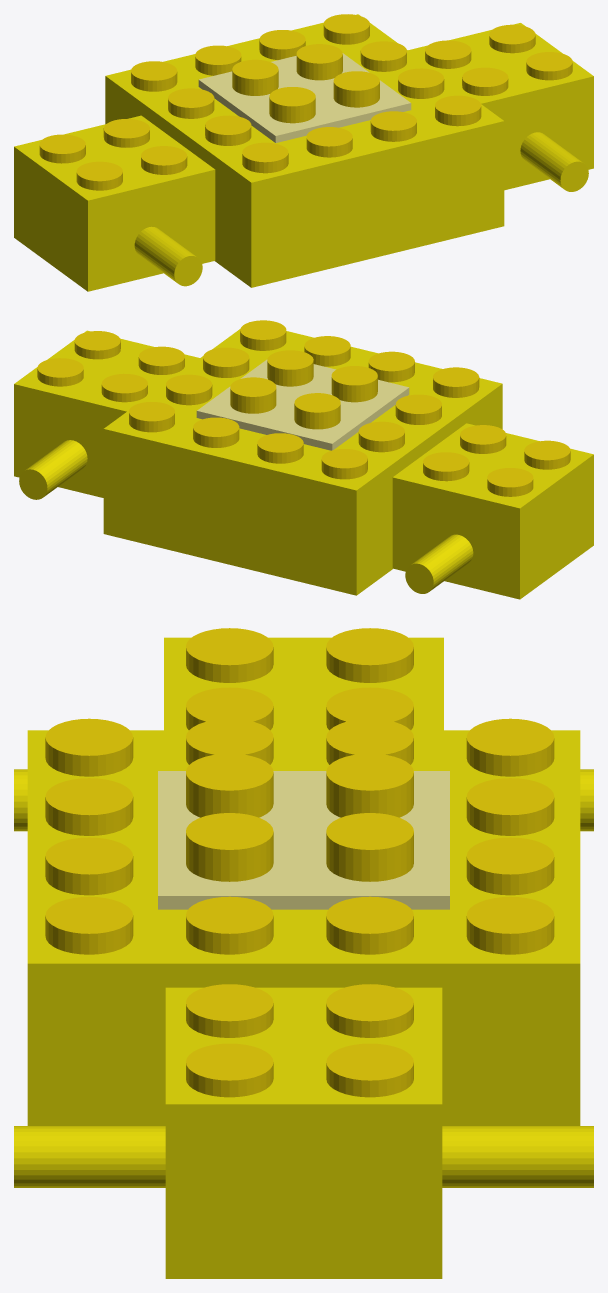
Rendered from Frame.fbx.
The picture shows the model from 3 angles, top to bottom: view 1: azimuth 30°, elevation 25°; view 2: azimuth 150°, elevation 25°; view 3: azimuth 270°, elevation 25°; orthographic projection. The views are drawn at different scales.
Visible parts, largest first — view 1: Cylinder; view 2: Cylinder; view 3: Cylinder.
Part boxes in pixels (x1,y1,x2,y2): Cylinder: (14, 14, 593, 291); Cylinder: (14, 320, 593, 599); Cylinder: (14, 628, 593, 1278).
Size of the model in its own units: 535 by 131 by 281.
